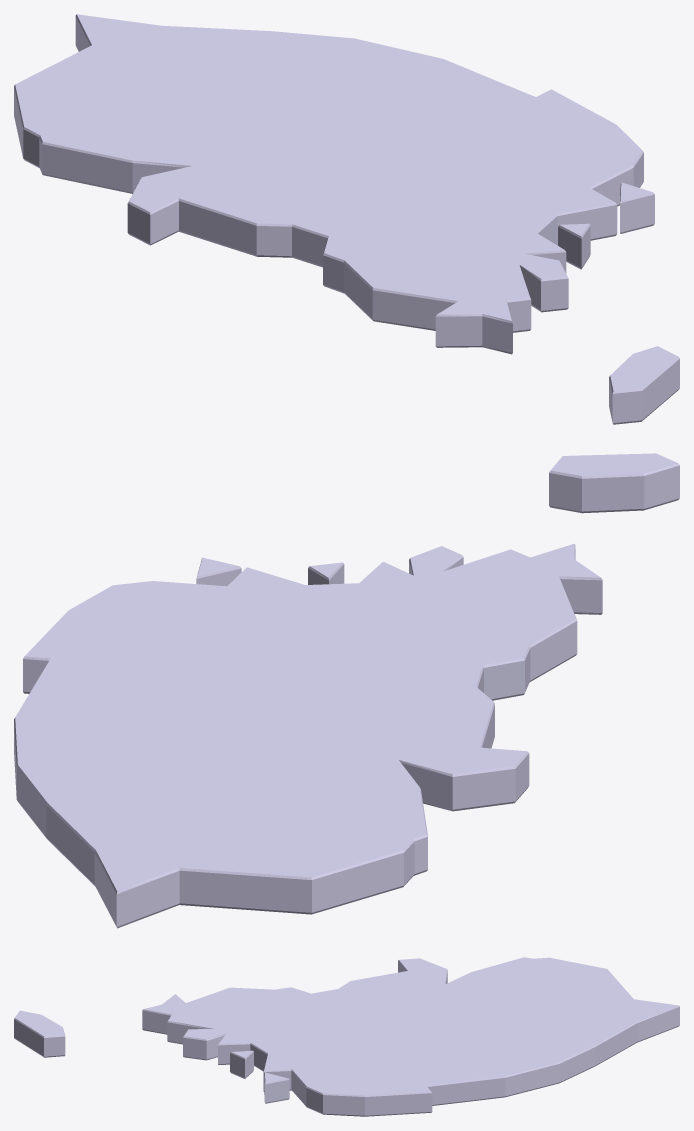
The model's file is KOR.glb.
The picture shows the model from 3 angles, top to bottom: view 1: azimuth 30°, elevation 25°; view 2: azimuth 150°, elevation 25°; view 3: azimuth 270°, elevation 25°; orthographic projection. The views are drawn at different scales.
Bounding box in the file's own units: 0.9595 × 0.068 × 1.94.
